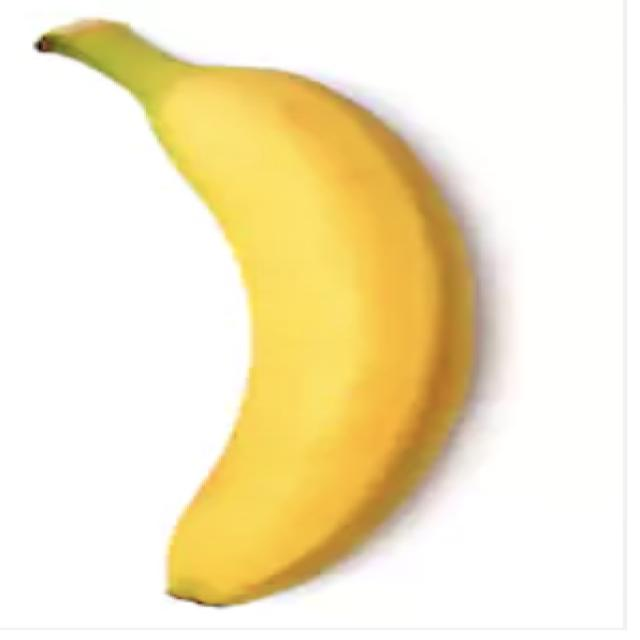fresh-banana: (32, 16, 477, 607)
